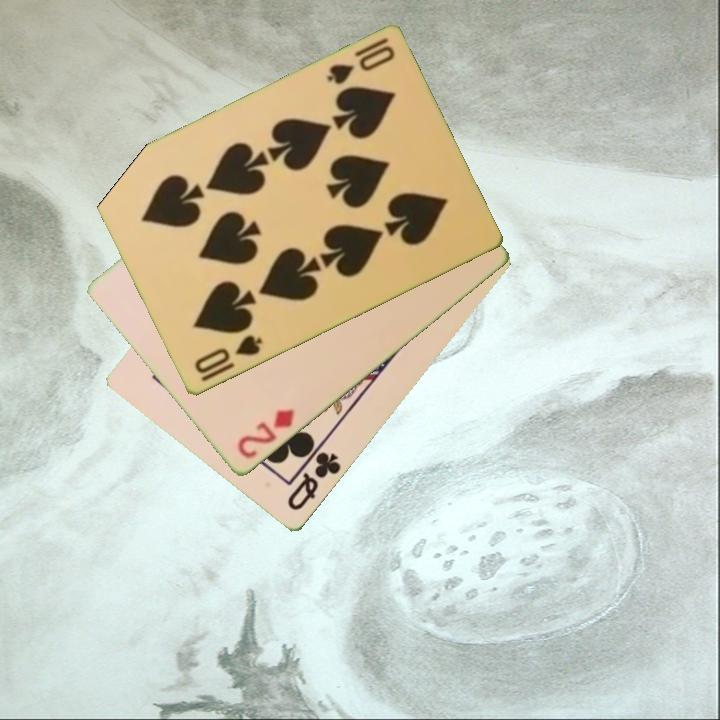10s: (323, 34, 398, 88), (190, 331, 266, 377)
2d: (233, 406, 298, 462)
Qc: (283, 440, 344, 515)
